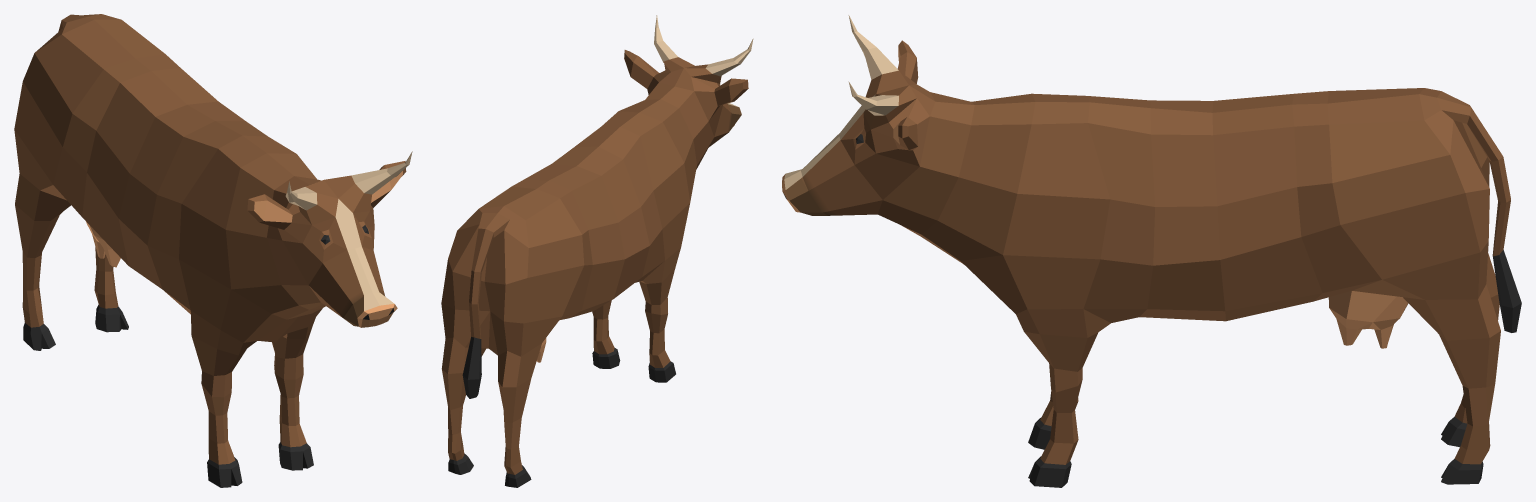
The model's file is cow.glb.
3 renders of one model, left to right at view 1: azimuth 30°, elevation 25°; view 2: azimuth 150°, elevation 25°; view 3: azimuth 270°, elevation 25°, orthographic. The views are drawn at different scales.
Parts seen in each view (by area): view 1: cow; view 2: cow; view 3: cow.
Part boxes in pixels (<box>): cow: <box>14,14,412,487</box>; cow: <box>441,15,753,487</box>; cow: <box>782,15,1521,487</box>.
Bounding box in the file's own units: 0.8096 × 1.82 × 2.94.
Materials: 1 (1 with a texture image).
